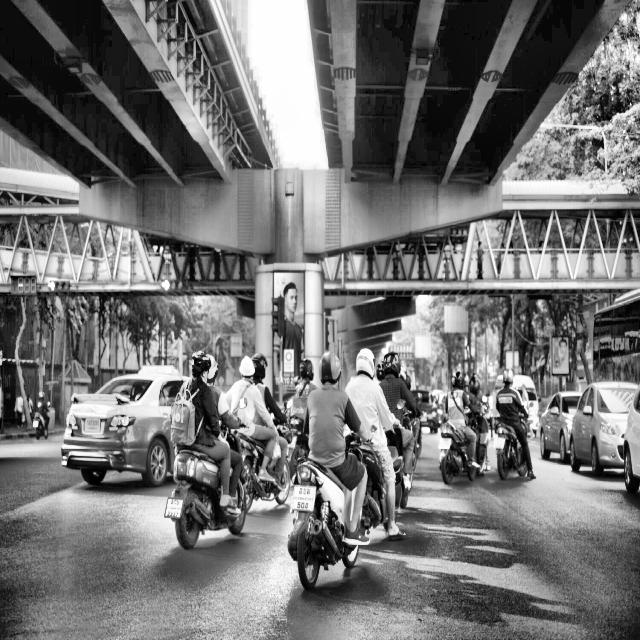Helmet: (311, 341, 347, 399), (352, 341, 383, 382), (187, 347, 214, 385), (237, 349, 256, 382)
